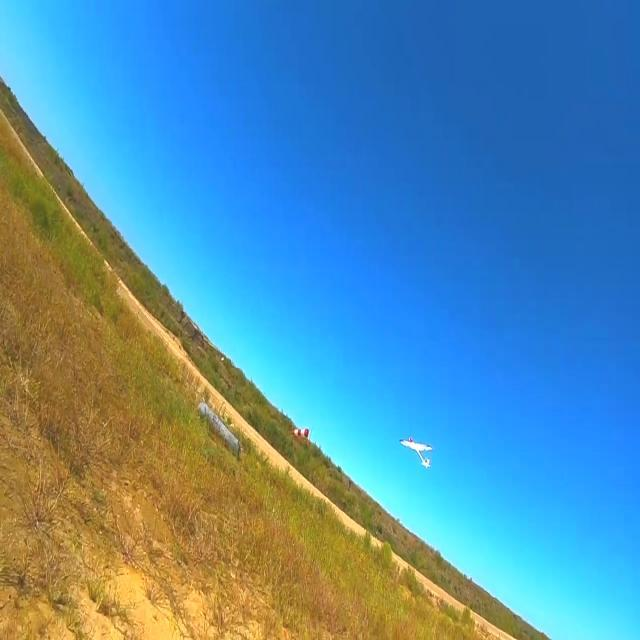iha: (401, 434, 432, 471)
